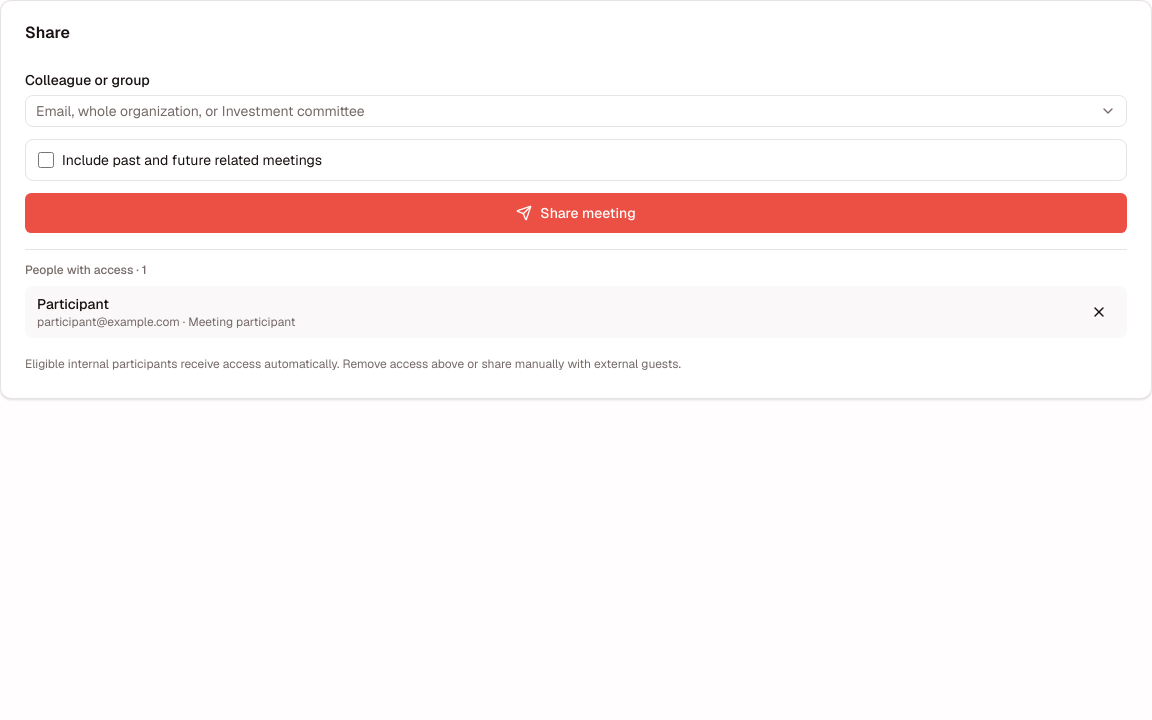
ShareDialog interactions › reports a successful share when clipboard access is unavailable
This screenshot has width=1152, height=720.
Type "guest@example.com" into the dropdown at (560, 111), box [26,96,1094,126]
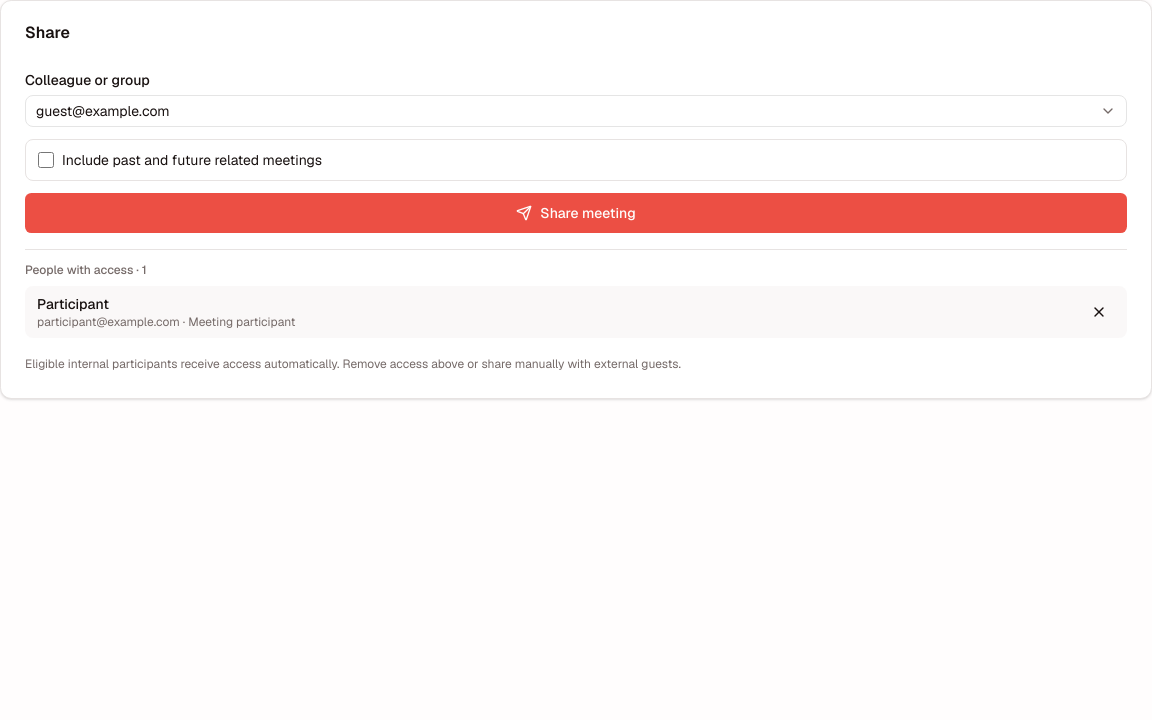
Click the button "Share meeting" at (576, 213), box [25,193,1127,233]
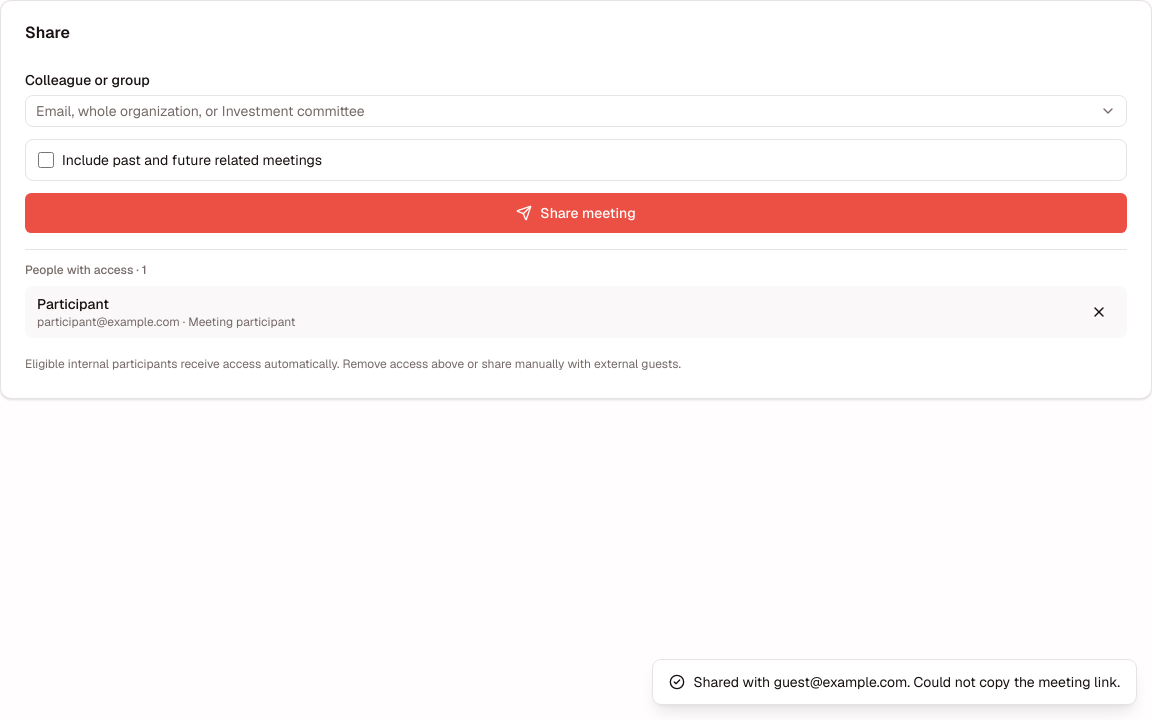
Now the text "Shared with guest@example.com. Could not copy the meeting link." is shown, box [694,672,1120,692]
